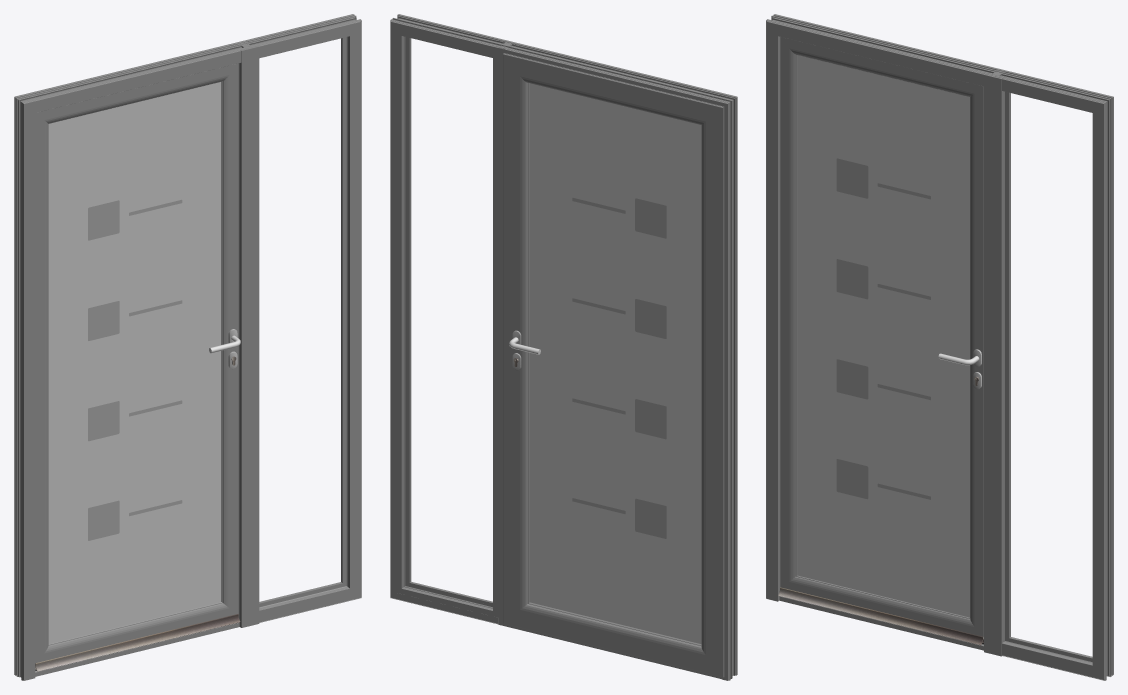
3 renders of one model, left to right at view 1: azimuth 30°, elevation 25°; view 2: azimuth 150°, elevation 25°; view 3: azimuth 330°, elevation 25°, orthographic.
Visible parts, largest first — view 1: fosco_21, aroFixo, aroMovel, montanteCentral, transparente_21, bite, borracha, escovas, rodaPe; view 2: fosco_21, aroMovel, aroFixo, bite, transparente_21, montanteCentral, borracha, rodaPe; view 3: fosco_21, aroFixo, aroMovel, montanteCentral, transparente_21, bite, escovas, borracha, rodaPe.
Part boxes in pixels (x1,y1,x2,y2): fosco_21: (48, 82, 221, 643); aroFixo: (14, 14, 361, 680); aroMovel: (35, 63, 238, 663); montanteCentral: (238, 42, 259, 627); transparente_21: (88, 199, 182, 540); bite: (259, 37, 346, 607); borracha: (259, 37, 345, 606); escovas: (35, 614, 240, 671); rodaPe: (35, 622, 239, 676); fosco_21: (529, 83, 701, 644); aroMovel: (503, 53, 724, 677); aroFixo: (390, 14, 737, 680); bite: (396, 29, 498, 617); transparente_21: (572, 198, 666, 538); montanteCentral: (498, 40, 518, 626); borracha: (404, 36, 492, 608); rodaPe: (505, 624, 721, 679); fosco_21: (797, 55, 969, 617); aroFixo: (766, 14, 1113, 680); aroMovel: (780, 37, 983, 638); montanteCentral: (984, 70, 1004, 656); transparente_21: (836, 158, 930, 499); bite: (1005, 91, 1092, 661); escovas: (778, 587, 983, 645); borracha: (1006, 92, 1092, 660); rodaPe: (779, 596, 983, 650).
Bounding box in the file's own units: 1320 × 2149 × 185.
10 materials, 4 textured.
